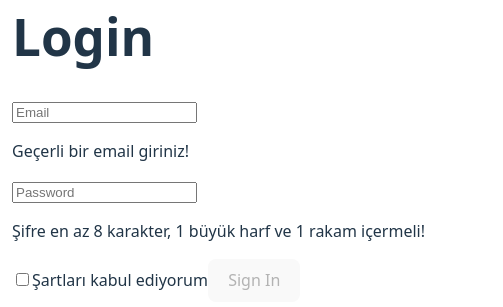
Test case: Login Form E2E › email yanlış girdim: 1 hata mesajı görünür ve buton disabled kalır
Type "yanlisemail" into the field with test id "input-email" at (105, 113), box [12,102,197,123]
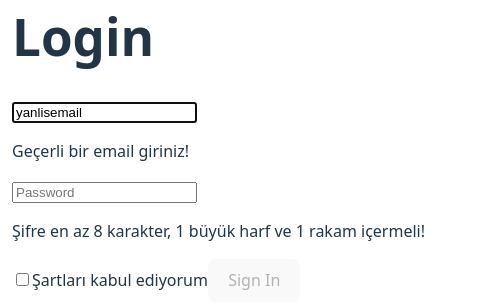
Type "Password1" into the password field with test id "input-password" at (105, 193), box [12,182,197,203]
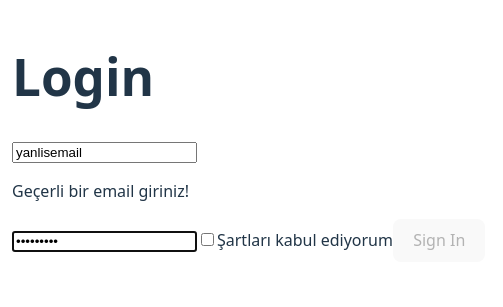
Expected: the button with test id "btn-submit" is disabled, [393,219,486,262]
Expected: the number of elements with test id "error-message" is 1, [12,180,189,202]
